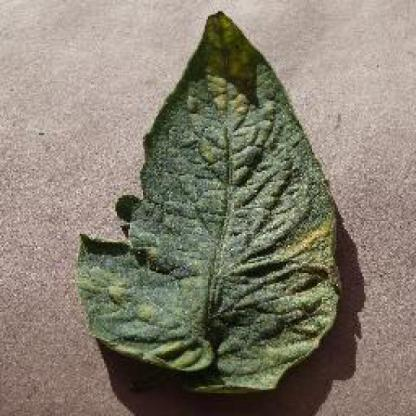Tomato_Spider_Mites: (79, 13, 336, 390)
